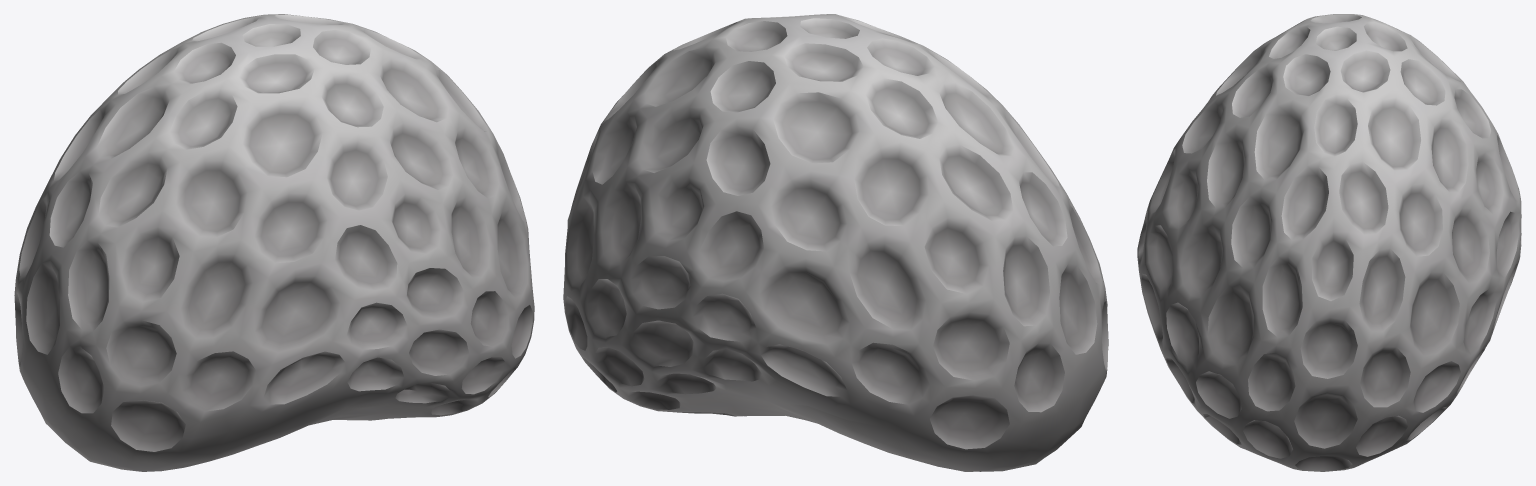
File: montastrea-cavernosa.glb
3 renders of one model, left to right at view 1: azimuth 30°, elevation 25°; view 2: azimuth 150°, elevation 25°; view 3: azimuth 270°, elevation 25°, orthographic. The views are drawn at different scales.
Parts seen in each view (by area): view 1: montastrea-cavernosa; view 2: montastrea-cavernosa; view 3: montastrea-cavernosa.
Part boxes in pixels (x1,y1,x2,y2): montastrea-cavernosa: (14, 14, 534, 471); montastrea-cavernosa: (563, 14, 1108, 471); montastrea-cavernosa: (1137, 14, 1521, 471).
Bounding box in the file's own units: 0.0786 × 0.0616 × 0.0596.
1 material, 1 textured.
